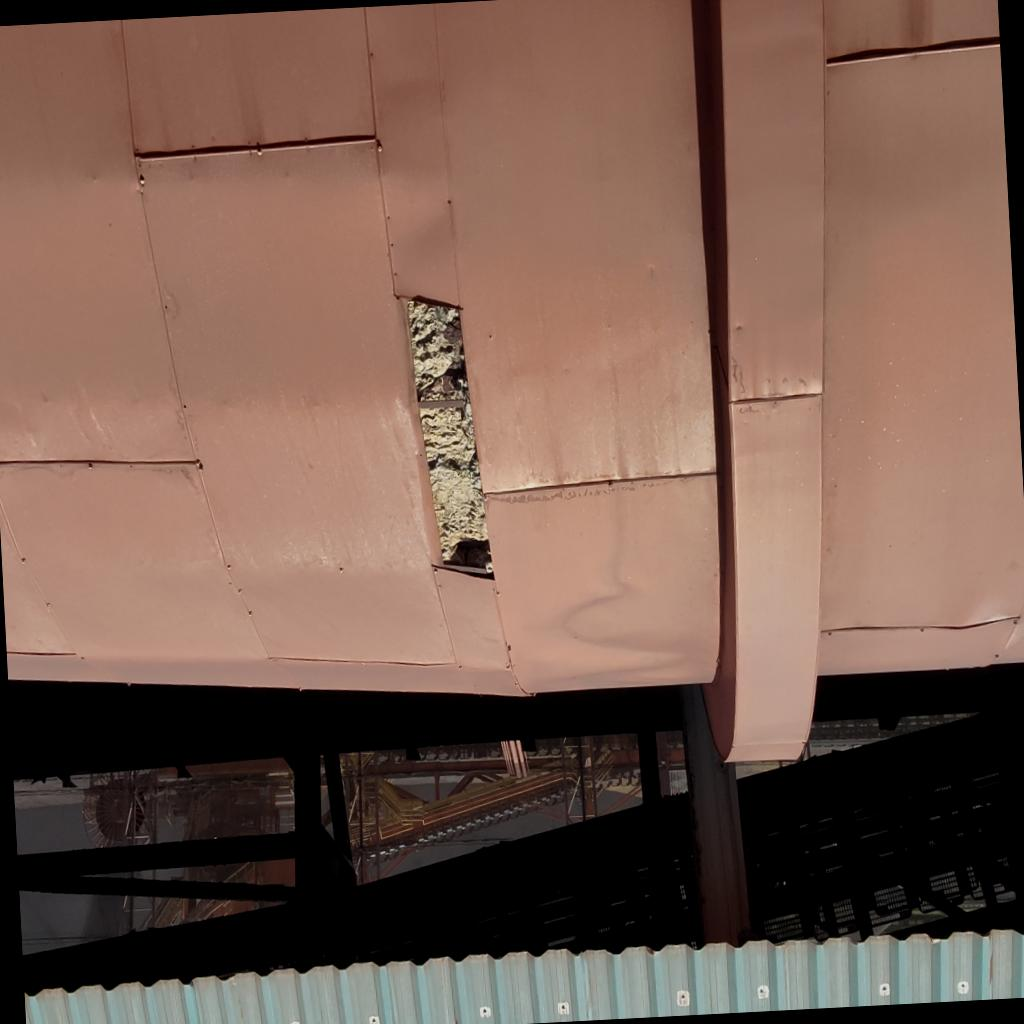Failures: (368, 202, 509, 607)
